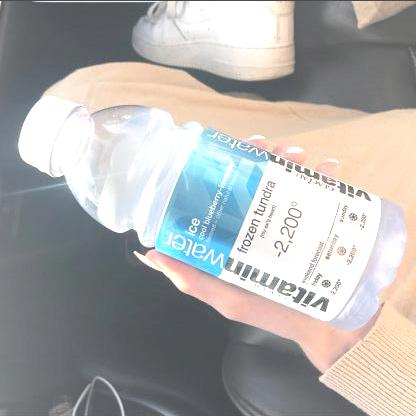bottle: (0, 94, 413, 333)
